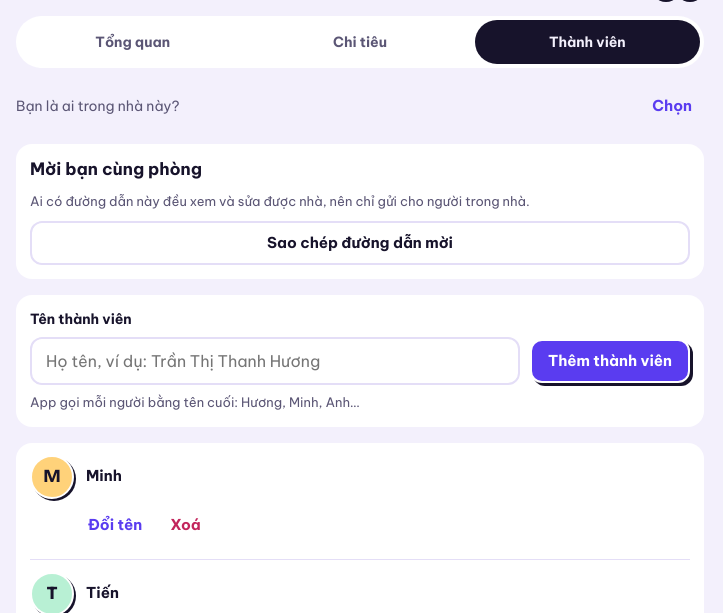
Scenario: a member used by an expense cannot be removed, and the page says why
Click the button with aria-label "Xoá Minh" at (185,525), box [158,503,213,547]
(page scrolled)
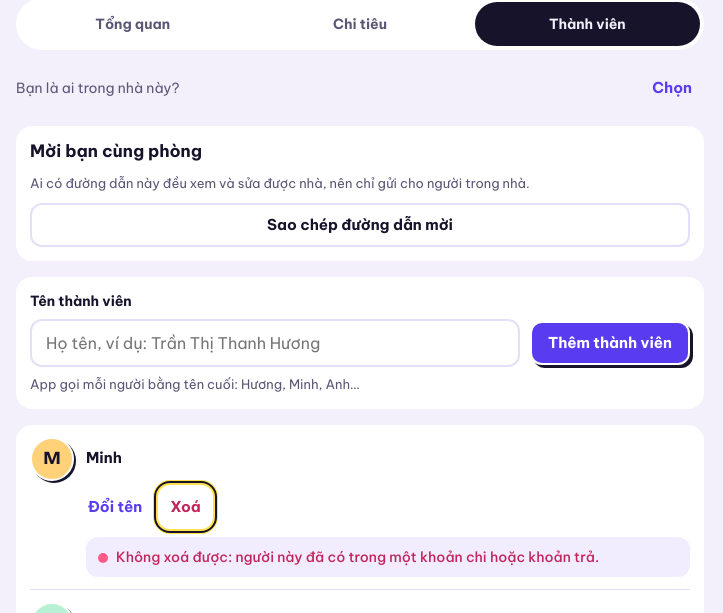
expect the text "Minh" is shown: met, box [86,447,122,469]
expect the message "Không xoá được: người này đã có trong một khoản chi hoặc khoản trả." is shown: met, box [86,537,690,577]
